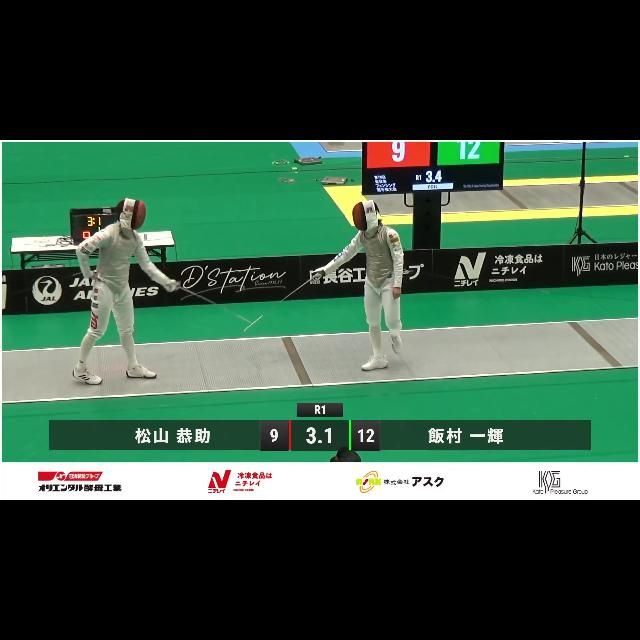blade: (239, 269, 317, 335), (167, 280, 251, 328)
